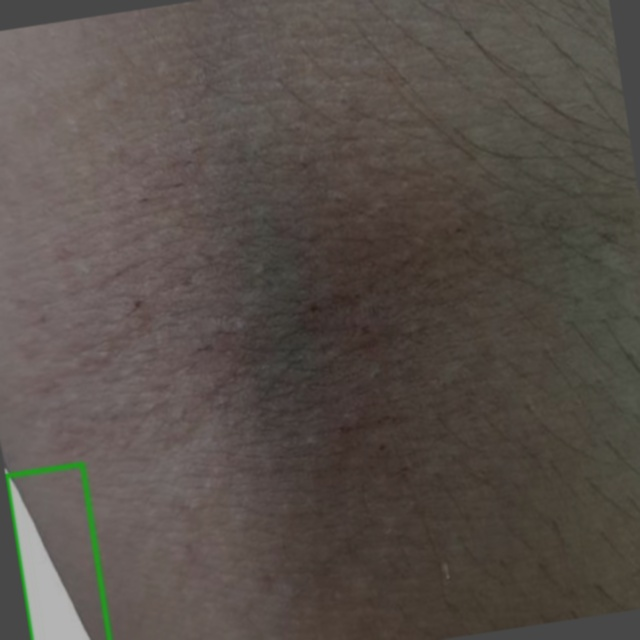Contact Dermatitis: (6, 464, 109, 639)
